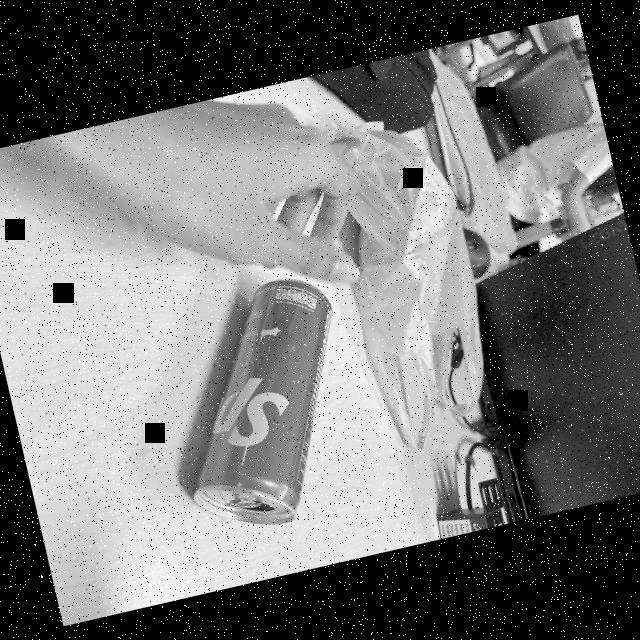can: (138, 268, 388, 546)
